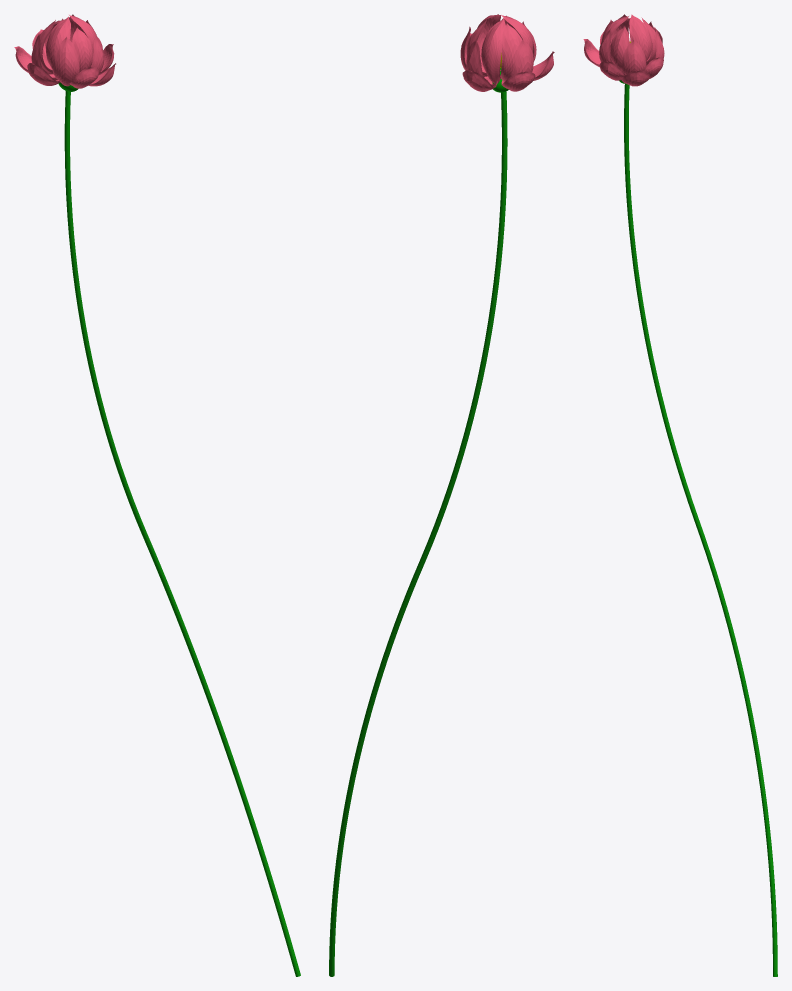
The model's file is Lotus049.fbx.
The picture shows the model from 3 angles, left to right: view 1: azimuth 30°, elevation 25°; view 2: azimuth 150°, elevation 25°; view 3: azimuth 330°, elevation 25°; orthographic projection. The views are drawn at different scales.
Parts seen in each view (by area): view 1: pCylinder5, nurbsToPoly16; view 2: pCylinder5, nurbsToPoly23, nurbsToPoly20, nurbsToPoly14; view 3: pCylinder5, nurbsToPoly13, nurbsToPoly22, nurbsToPoly18.
Part boxes in pixels (left/top/right/bottom): pCylinder5: left=64, top=91, right=300, bottom=976; nurbsToPoly16: left=52, top=37, right=79, bottom=86; pCylinder5: left=329, top=91, right=507, bottom=976; nurbsToPoly23: left=481, top=18, right=505, bottom=83; nurbsToPoly20: left=500, top=23, right=521, bottom=81; nurbsToPoly14: left=504, top=39, right=533, bottom=81; pCylinder5: left=624, top=84, right=777, bottom=976; nurbsToPoly13: left=621, top=40, right=646, bottom=74; nurbsToPoly22: left=629, top=14, right=651, bottom=62; nurbsToPoly18: left=610, top=26, right=629, bottom=68.
Size of the model in its own units: 52.23 by 204 by 24.11.
